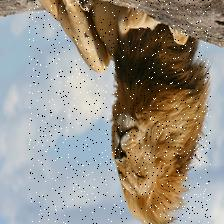Lion: (28, 0, 210, 224)
